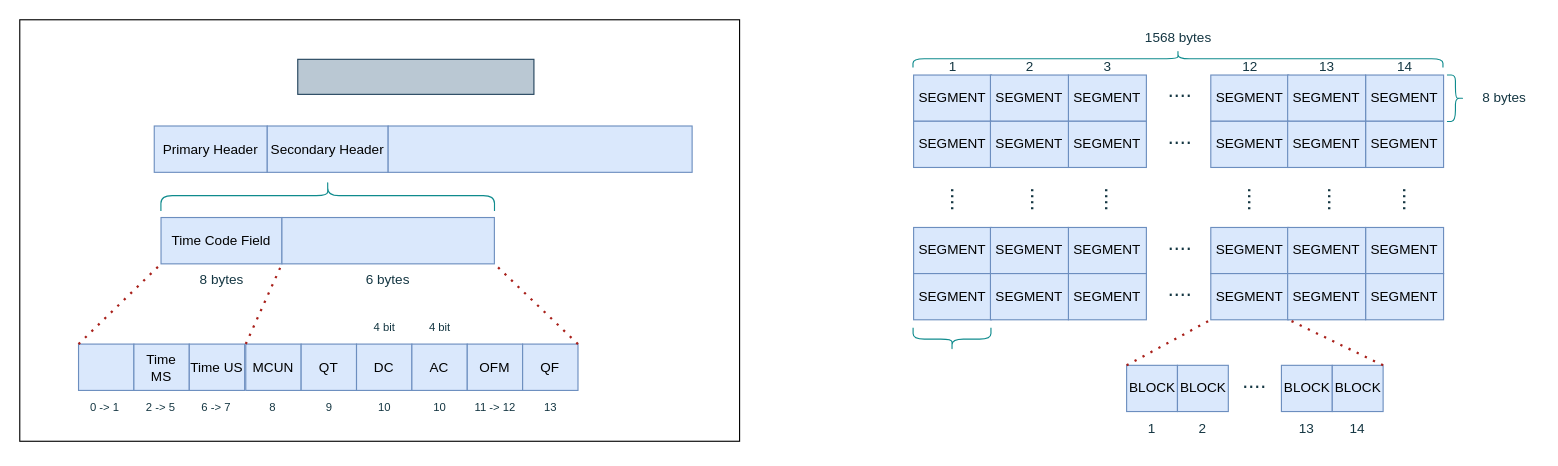
Image size: 1558x466. Some labels were removed from this diagram. The shapes that lost their labels are listed below. From the top down, each one's centre as x and y in pixels, then its label:
At pixel 415 76: "Meteor CCSDS Packet".
At pixel 539 148: "Data Field = 1 SEGMENT = 8 x 112 bytes".
At pixel 387 240: "Ancillary Data Field".
At pixel 951 339: "112 bytes".
At pixel 105 366: "Day Time".
